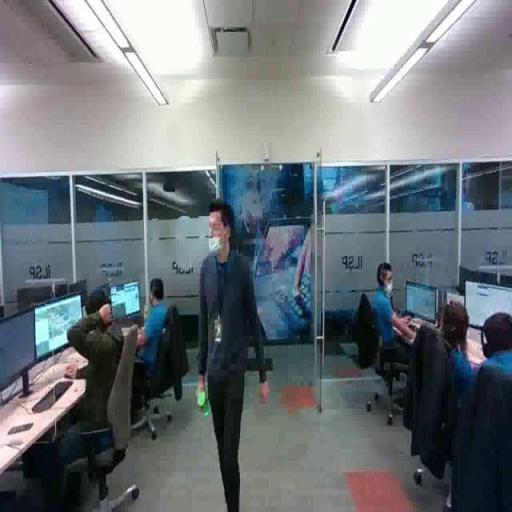person: (199, 196, 269, 512)
